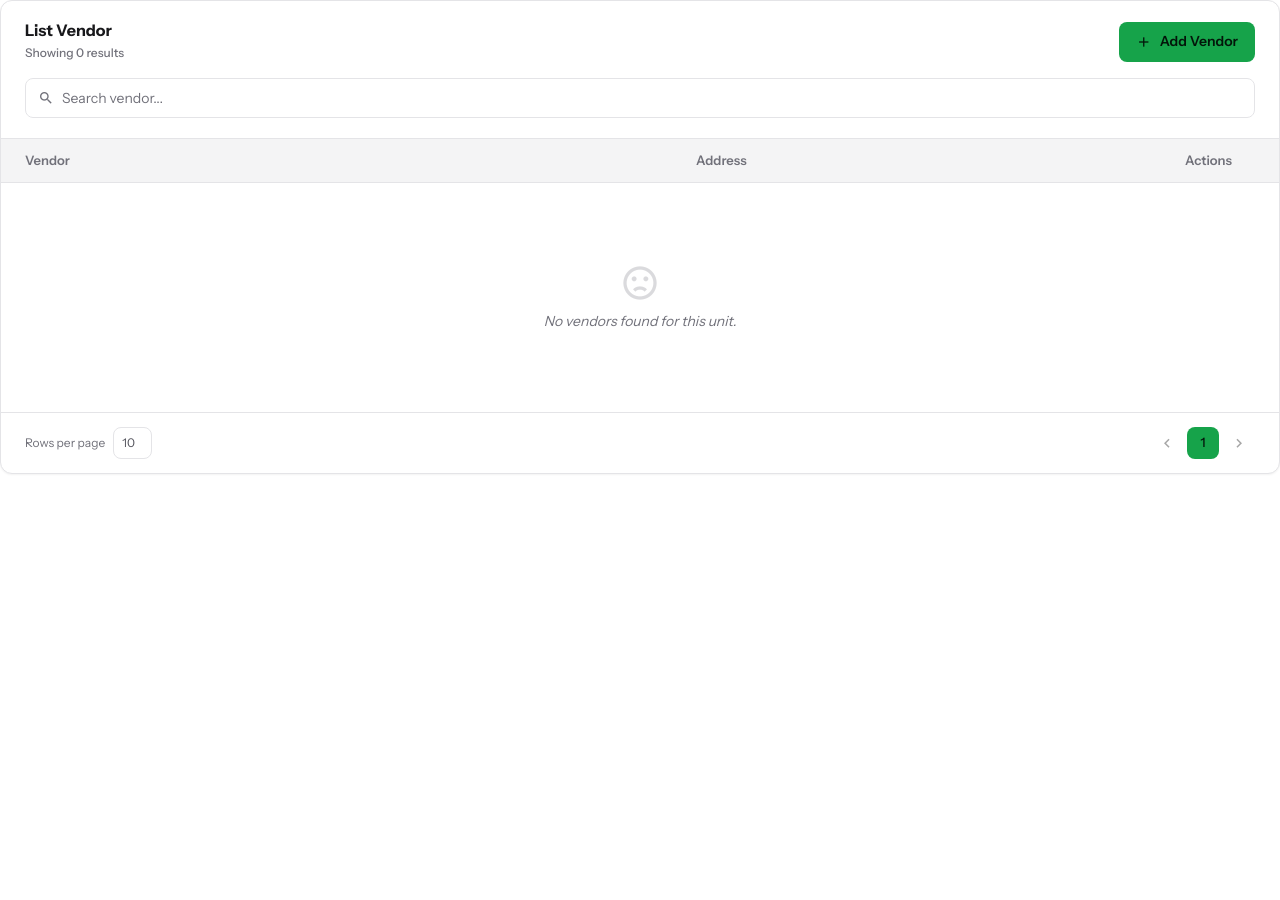
Test: VendorView › opens the New Vendor dialog when the button is clicked
Click the button with test id "new-vendor-btn" at (1187, 42), box [1119,22,1255,62]
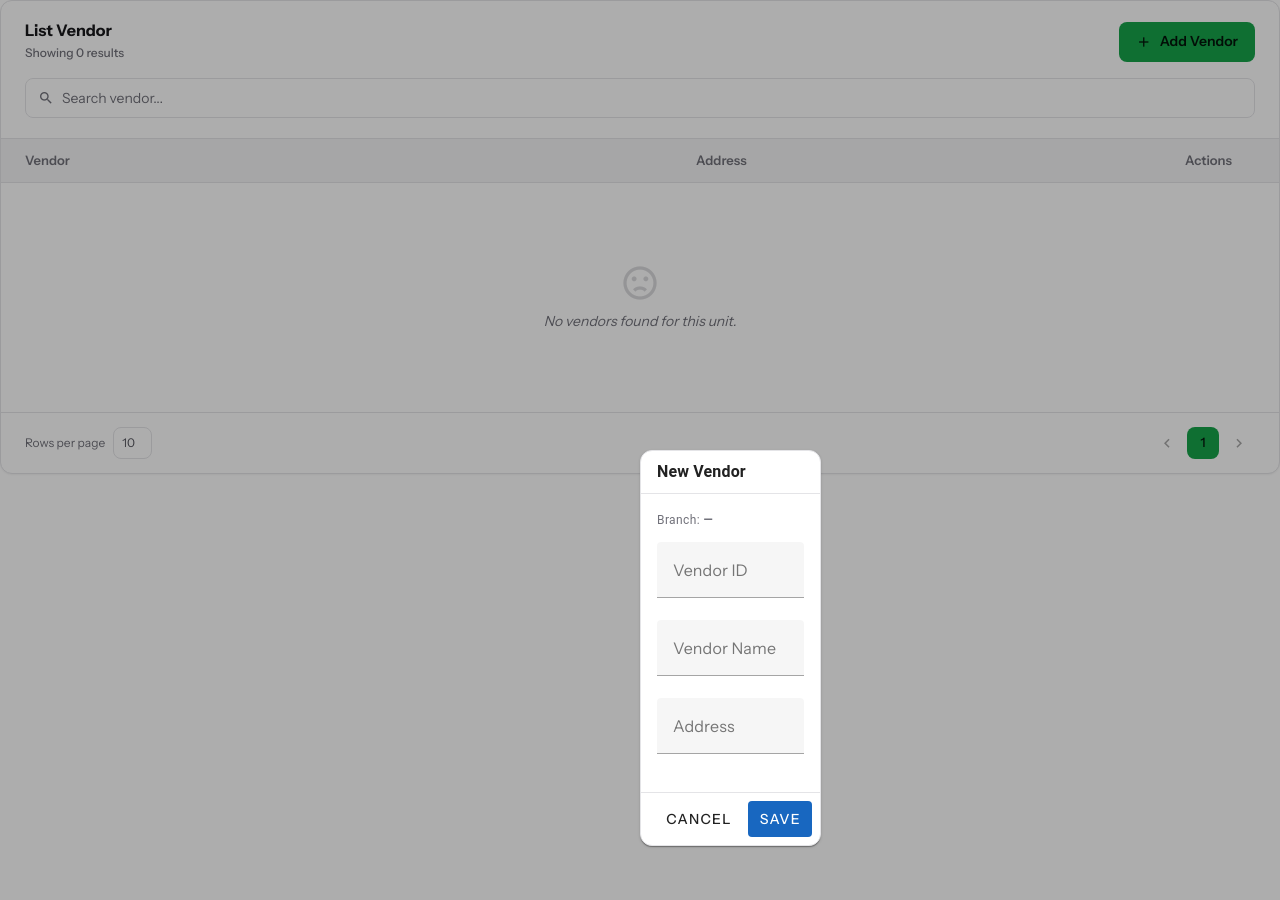
expect the element with test id "field-vendor-id" is shown: met, box [657,542,804,620]
expect the element with test id "field-name" is shown: met, box [657,620,804,698]
